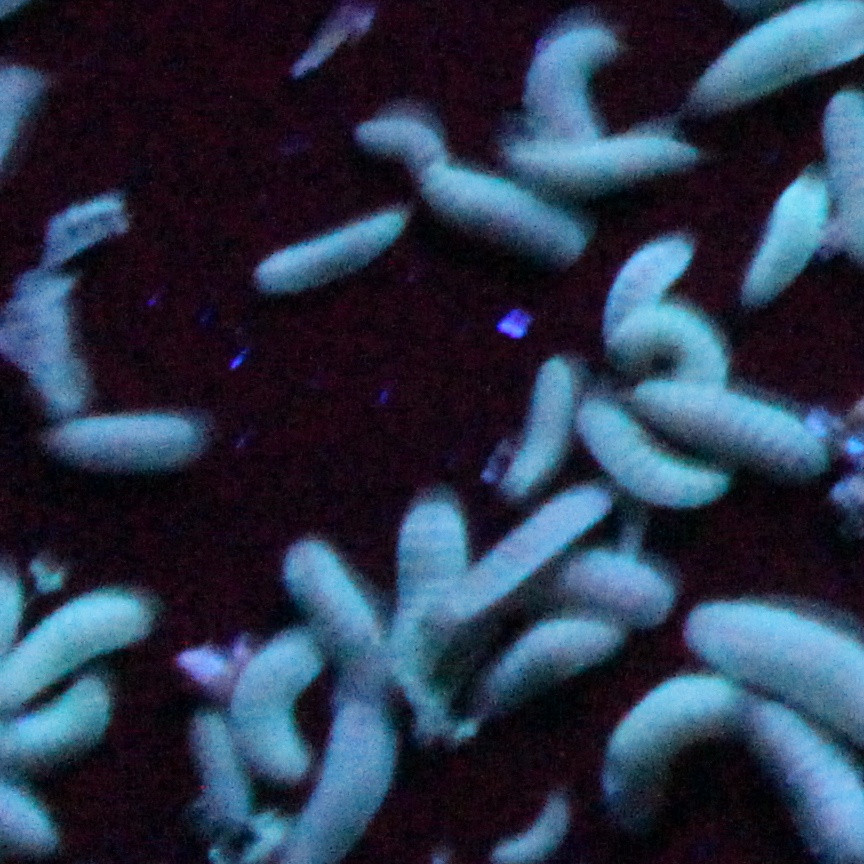larve: (449, 486, 605, 614), (634, 381, 820, 476), (602, 674, 738, 800), (1, 589, 148, 702), (578, 398, 728, 507), (284, 543, 388, 692), (419, 170, 585, 261), (232, 637, 322, 784), (253, 211, 403, 293), (483, 620, 615, 706), (526, 29, 616, 144), (745, 175, 824, 300), (502, 359, 572, 497), (397, 504, 462, 636), (613, 309, 726, 380), (50, 416, 198, 467), (565, 553, 671, 624), (189, 715, 252, 833), (502, 140, 693, 177), (605, 239, 691, 317), (489, 795, 568, 863), (357, 117, 446, 167)
